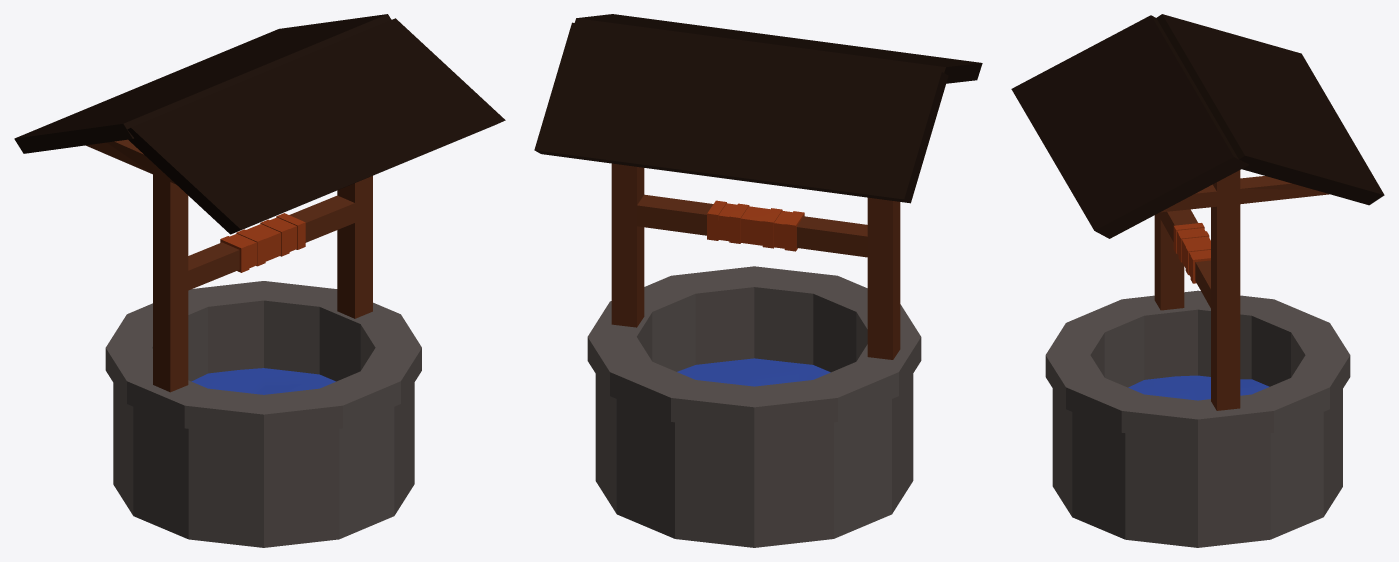
Rendered from Puits (1).FBX.
3 renders of one model, left to right at view 1: azimuth 30°, elevation 25°; view 2: azimuth 150°, elevation 25°; view 3: azimuth 270°, elevation 25°, orthographic. The views are drawn at different scales.
Parts seen in each view (by area): view 1: Puits; view 2: Puits; view 3: Puits.
Boxes of the visible parts, x1=… form: Puits: x1=14, y1=14, x2=505, y2=547; Puits: x1=534, y1=14, x2=982, y2=547; Puits: x1=1011, y1=14, x2=1384, y2=547.
Size of the model in its own units: 69.52 by 71.98 by 60.76.
